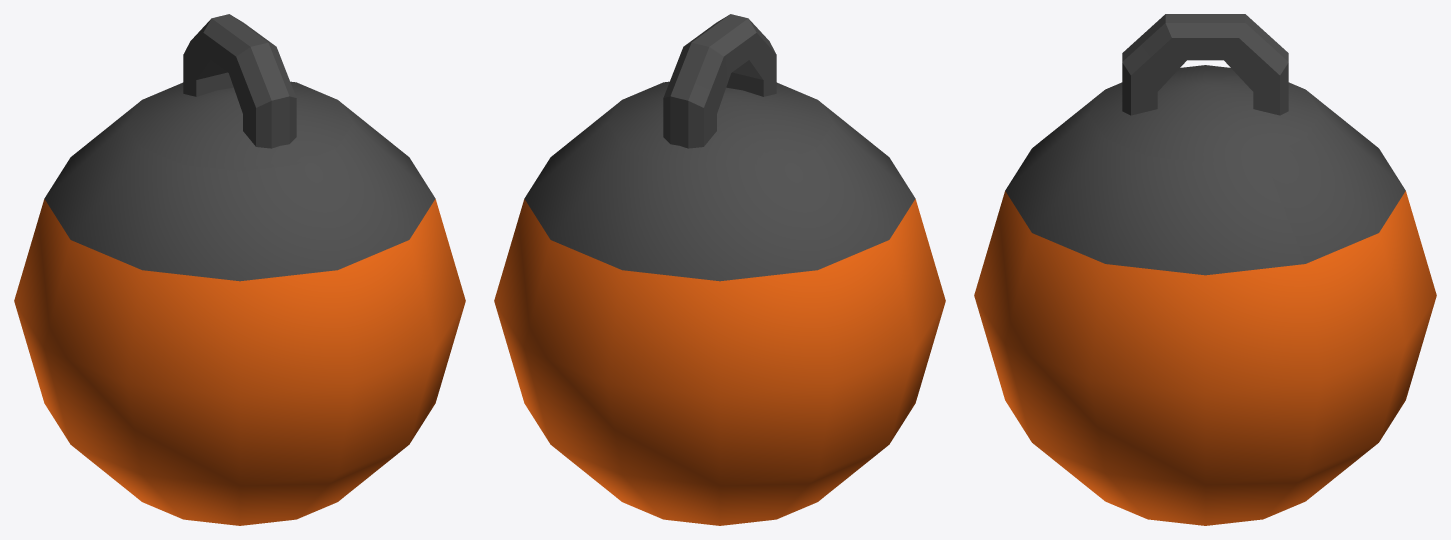
Rendered from prop_46.FBX.
The picture shows the model from 3 angles, left to right: view 1: azimuth 30°, elevation 25°; view 2: azimuth 150°, elevation 25°; view 3: azimuth 270°, elevation 25°; orthographic projection. The views are drawn at different scales.
Parts seen in each view (by area): view 1: prop_46; view 2: prop_46; view 3: prop_46.
Boxes of the visible parts, x1=… form: prop_46: x1=14, y1=14, x2=465, y2=525; prop_46: x1=494, y1=14, x2=945, y2=525; prop_46: x1=974, y1=14, x2=1436, y2=525.
Bounding box in the file's own units: 21.11 × 24.5 × 21.11.
